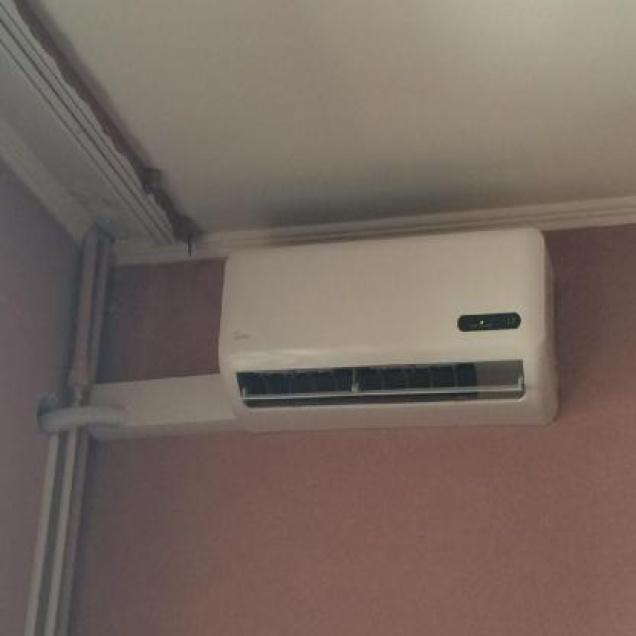AC: (216, 226, 559, 434)
